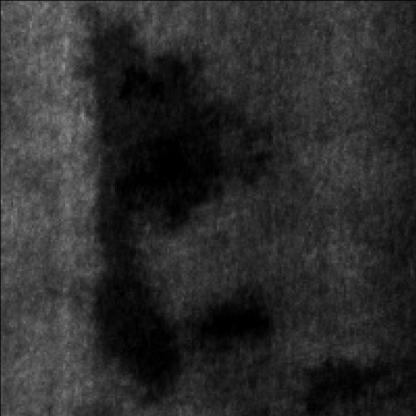patches: (94, 52, 268, 262), (89, 268, 185, 412), (197, 287, 277, 356), (306, 357, 389, 416)
